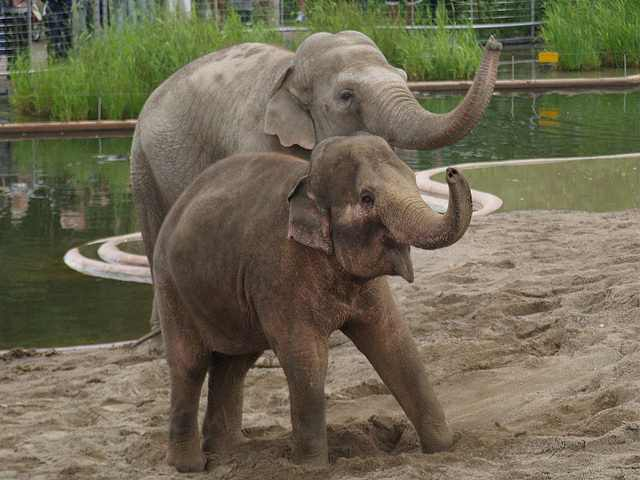elephant: (115, 22, 542, 362), (132, 127, 506, 470)
